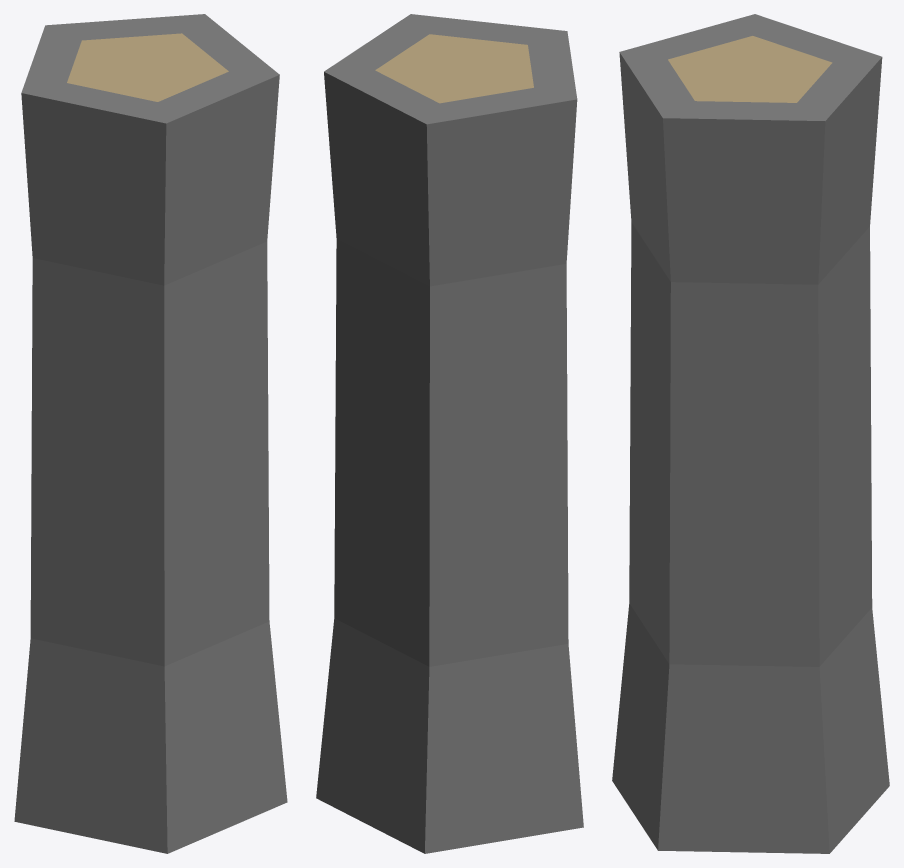
Rendered from Pillar_Penta_1.fbx.
3 renders of one model, left to right at view 1: azimuth 30°, elevation 25°; view 2: azimuth 150°, elevation 25°; view 3: azimuth 270°, elevation 25°, orthographic.
Visible parts, largest first — view 1: Cylinder005; view 2: Cylinder005; view 3: Cylinder005.
Boxes of the visible parts, x1=… form: Cylinder005: x1=14, y1=14, x2=287, y2=853; Cylinder005: x1=316, y1=14, x2=583, y2=853; Cylinder005: x1=612, y1=14, x2=889, y2=853.
Bounding box in the file's own units: 16.63 × 50 × 17.24.
